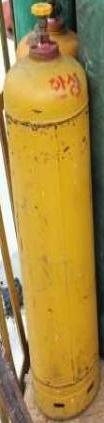cylinder: (1, 1, 104, 423)
